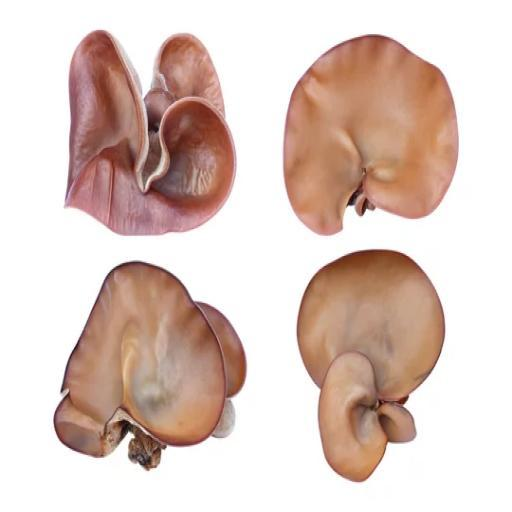mushroom: (46, 9, 254, 252), (267, 238, 452, 500), (51, 246, 250, 488), (269, 14, 464, 258)
